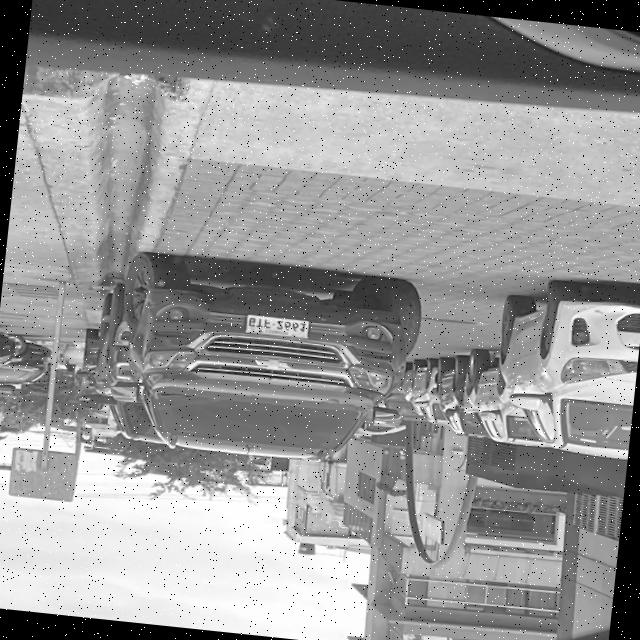Placa: (246, 314, 309, 337)
